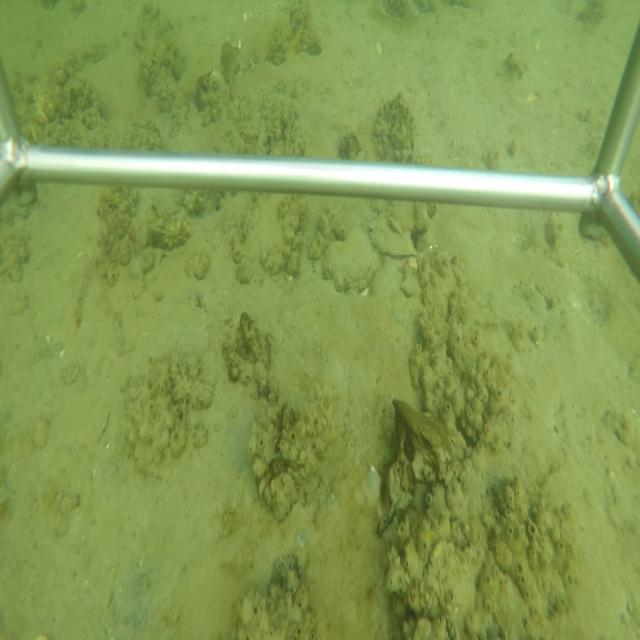Oyster-Closed: (321, 227, 382, 295), (370, 216, 416, 261), (142, 214, 193, 251), (382, 496, 403, 537)
Oyster-Indeterminate: (421, 535, 476, 628)
